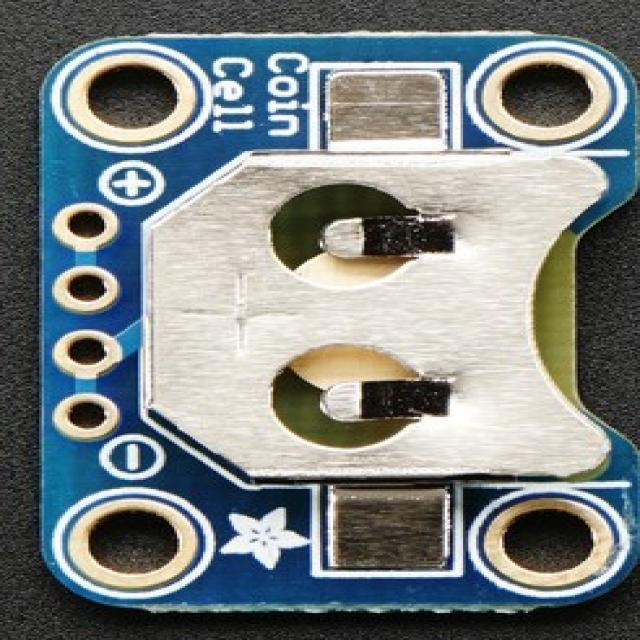battery: (142, 148, 609, 486)
